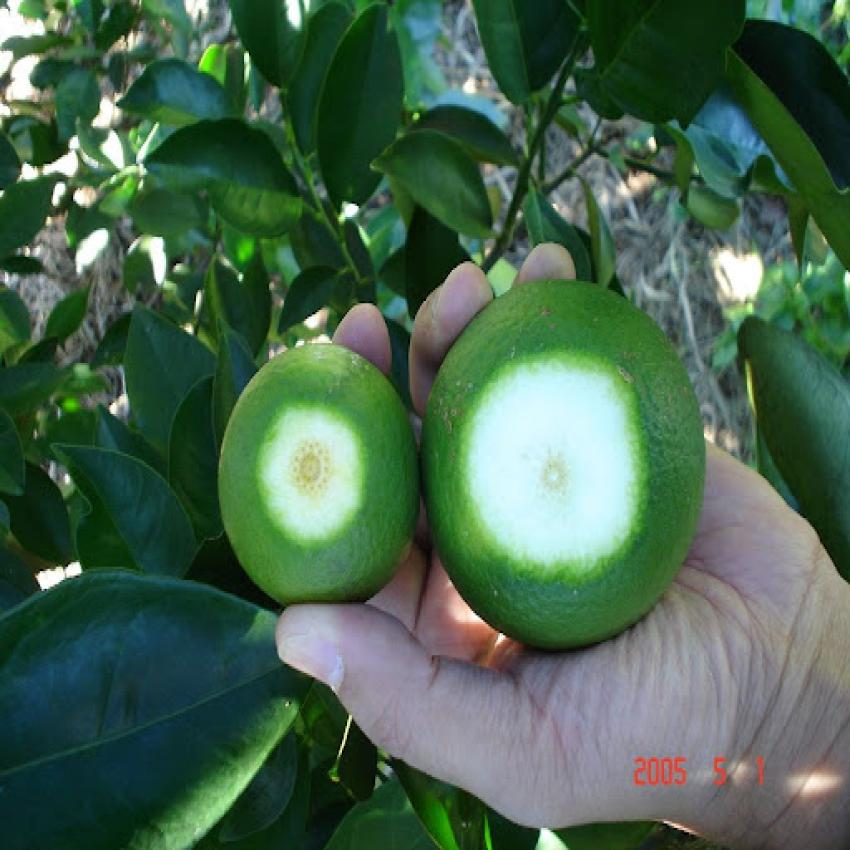Mal estado: (422, 264, 714, 666), (207, 323, 423, 618)
